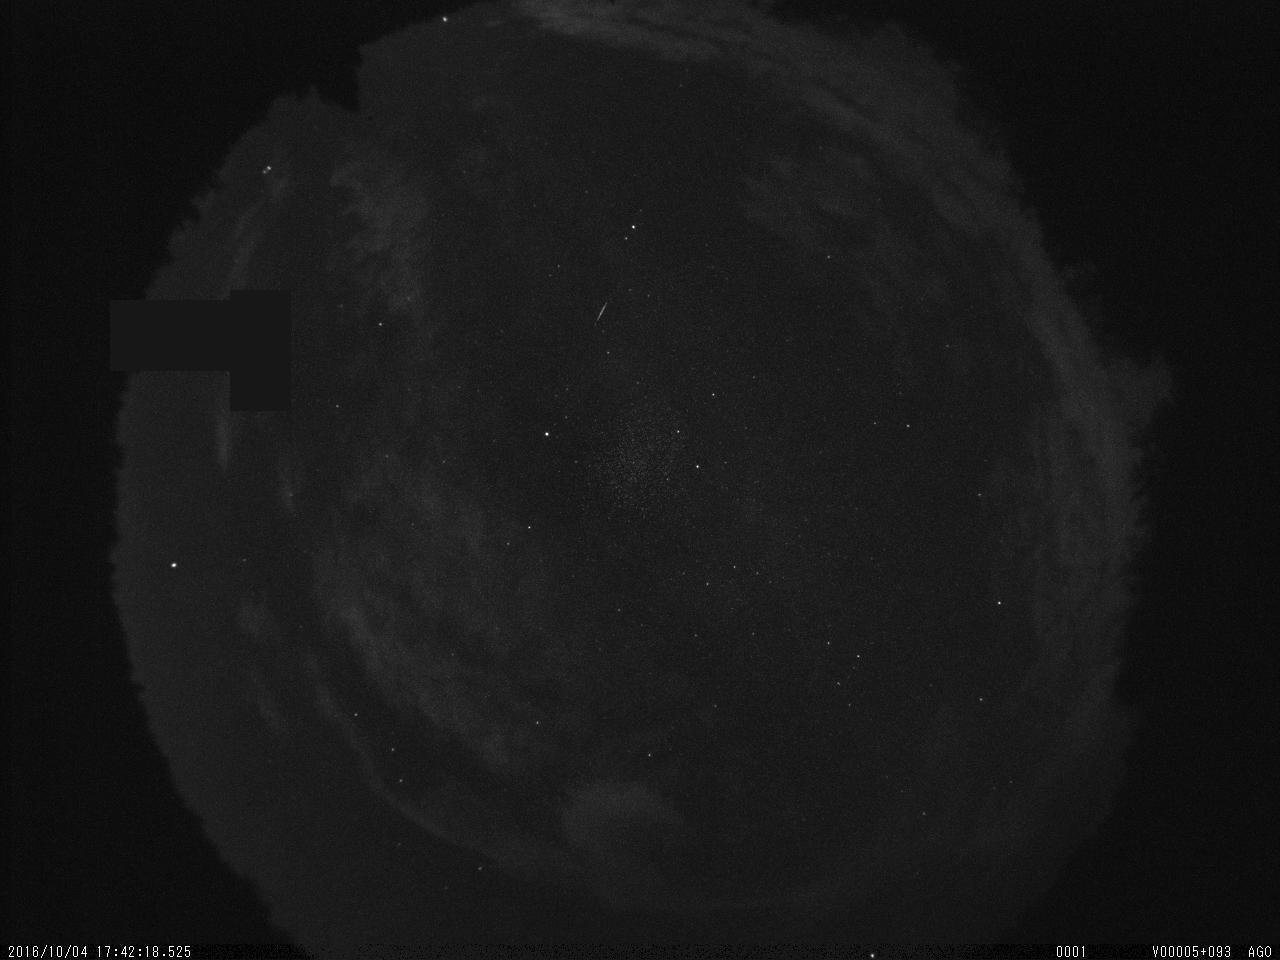meteor: (591, 295, 613, 331)
